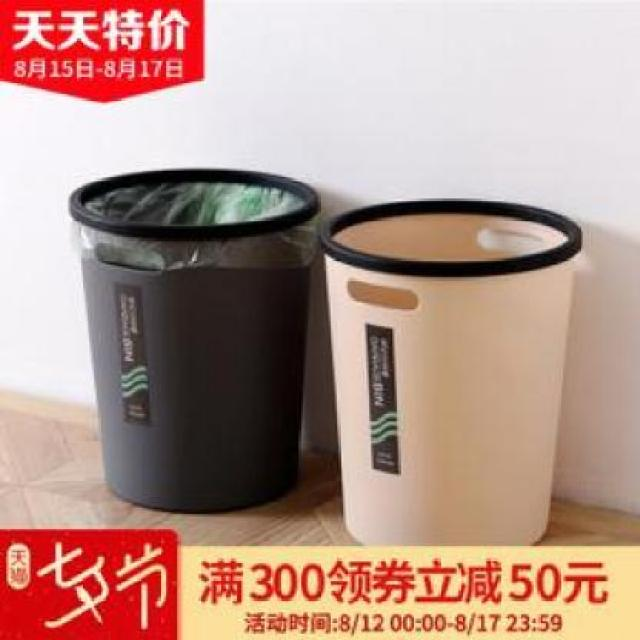dustbin: (318, 194, 587, 549), (66, 163, 322, 519)
